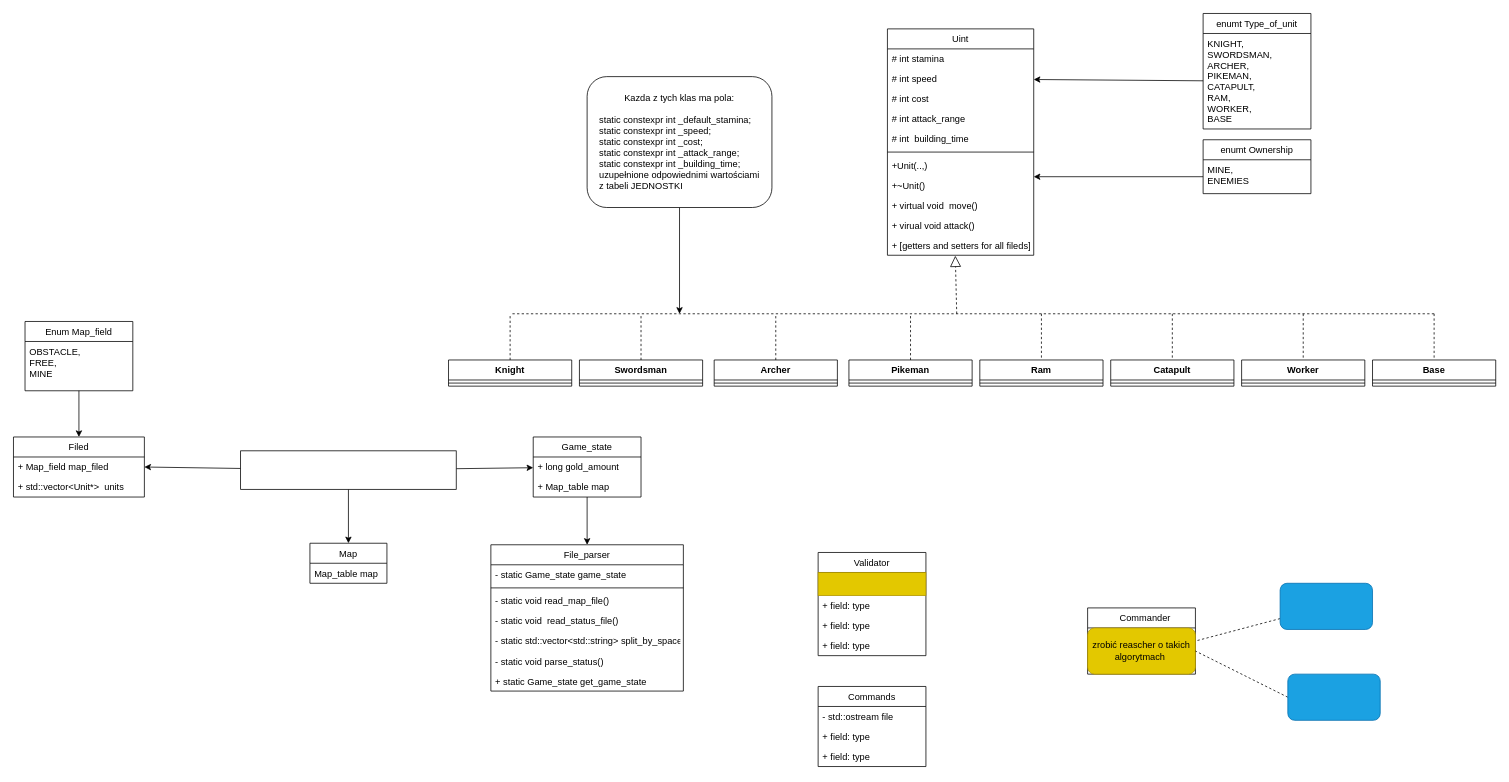
Some shapes in this 1509 by 782 pixel diagram are drawn without their labels. The shapes that lost their labels are listed below. From the top down, each one's centre as x and y in pixels, then its label:
the point at 348,469: using Map_table = std::vector<std::vector<Field>>
the point at 871,584: może wsadzić ro po prostu do Commands?
the point at 1326,606: Klasa, w której bedą pracować algorytmy podejmujące decyzje
the point at 1333,696: Tworzyć osobne listy (mapy??) jednostek naszych i enemy?
